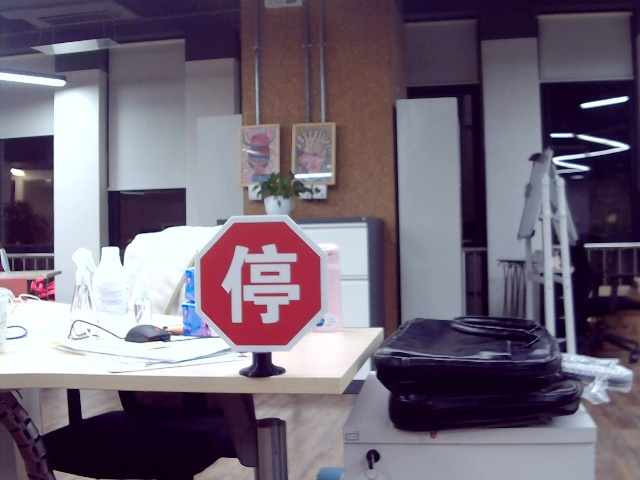stop: (217, 244, 301, 327)
